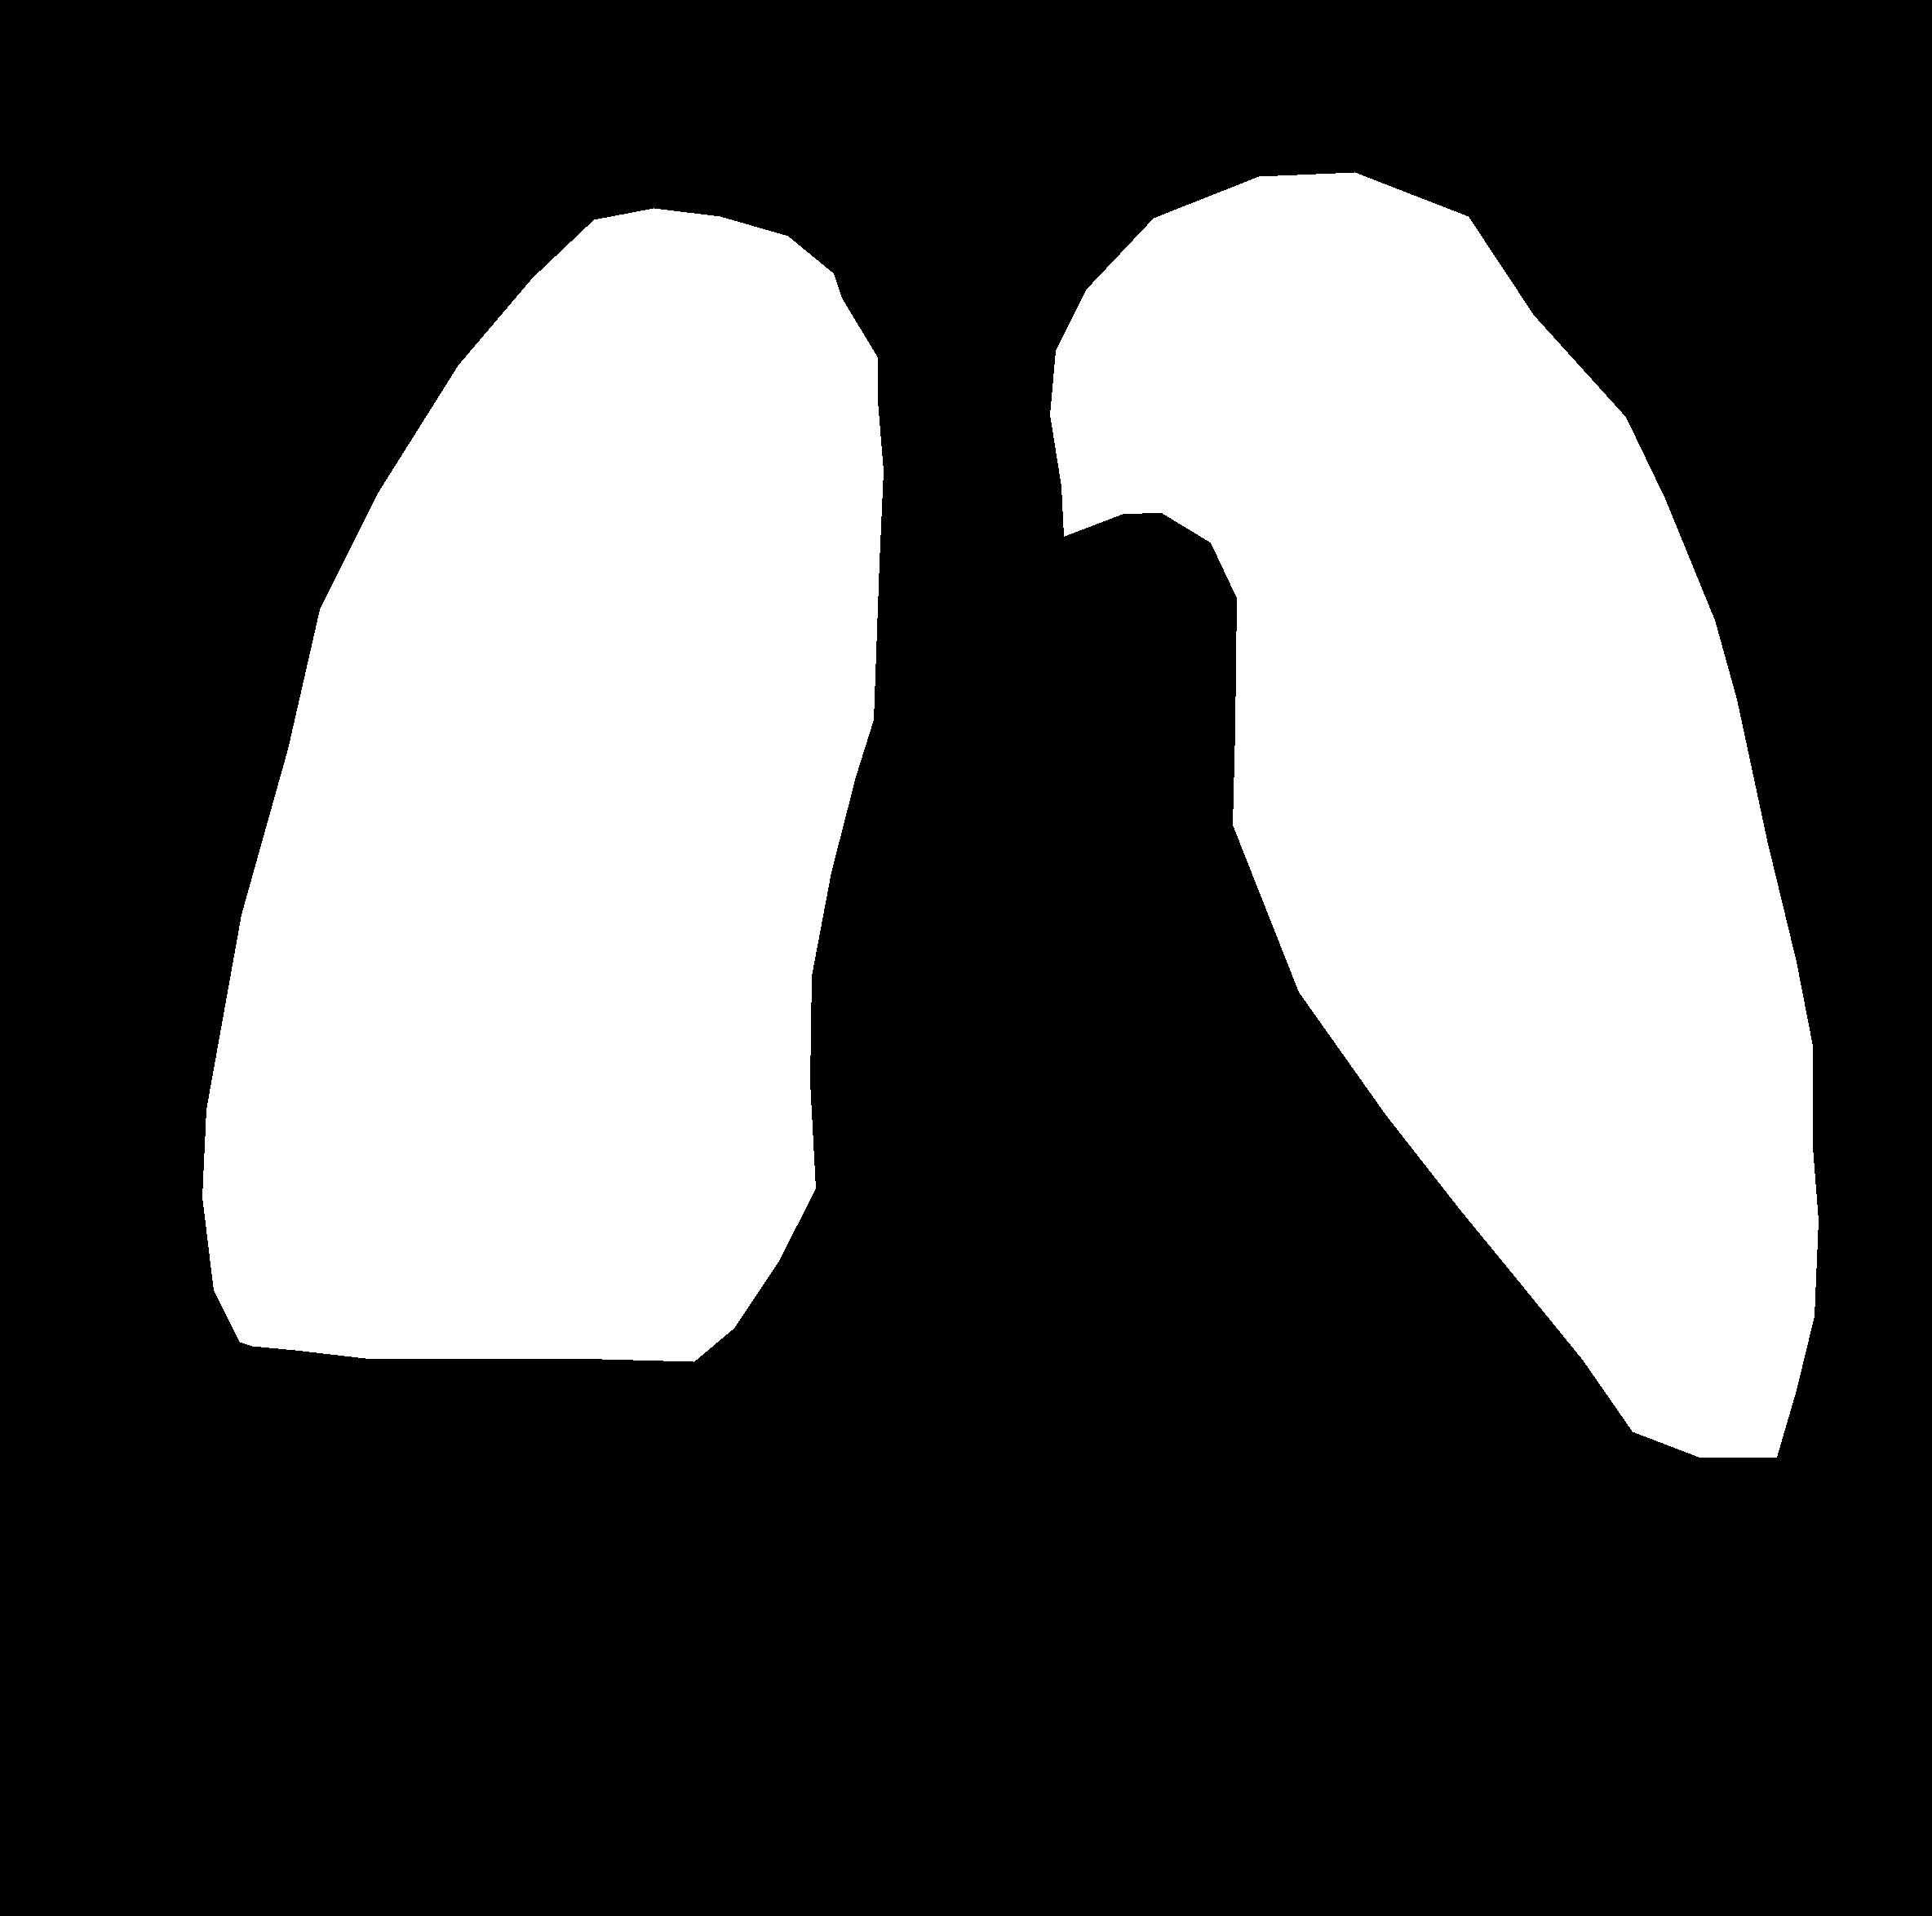heart: (779, 716, 1555, 1386)
left_lung: (202, 209, 883, 1362)
right_lung: (1049, 172, 1818, 1456)
